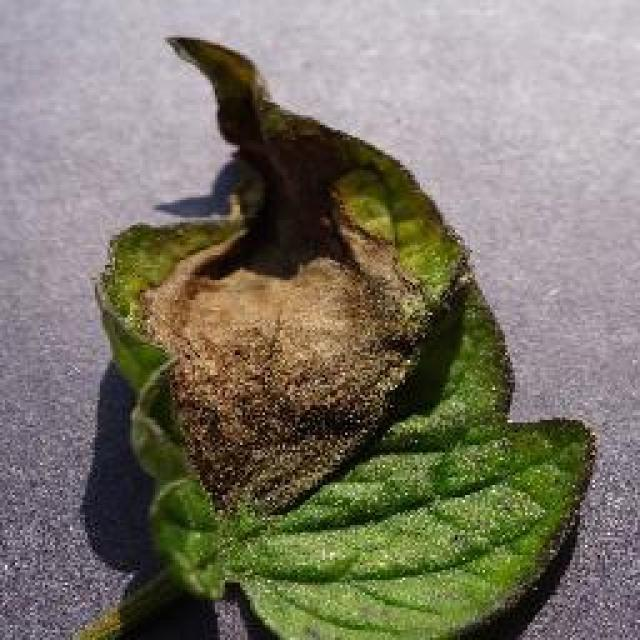Tomato late blight leaf: (88, 32, 590, 640)
